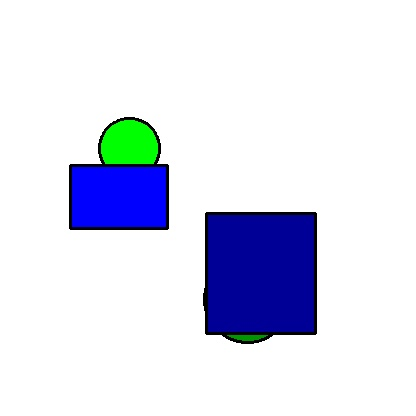circle: (196, 256, 299, 342), (81, 118, 177, 178)
rectangle: (206, 213, 315, 333), (70, 165, 167, 228)
